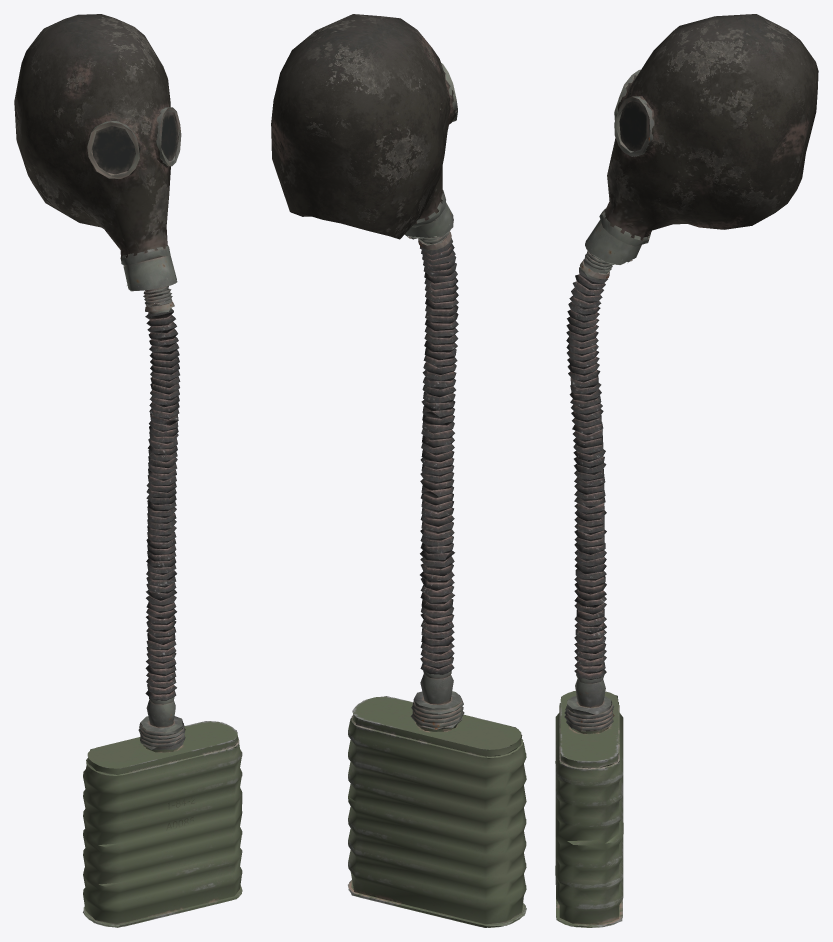
File: old_gas_mask.glb
3 views of the same model, side by side, from view 1: azimuth 30°, elevation 25°; view 2: azimuth 150°, elevation 25°; view 3: azimuth 270°, elevation 25° (orthographic). The views are drawn at different scales.
Parts seen in each view (by area): view 1: old_gas_mask; view 2: old_gas_mask; view 3: old_gas_mask.
Boxes of the visible parts, <box> form: old_gas_mask: <box>14,14,242,927</box>; old_gas_mask: <box>271,14,526,927</box>; old_gas_mask: <box>555,14,818,927</box>.
Bounding box in the file's own units: 0.212 × 1.13 × 0.3089.
1 material, 1 textured.
